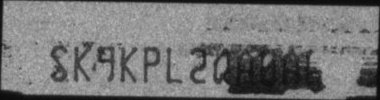0: (259, 45, 278, 85)
2: (190, 46, 207, 84)
6: (305, 47, 323, 86)
9: (97, 45, 116, 81)
A: (282, 49, 301, 86), (236, 49, 254, 87)
K: (73, 44, 92, 82), (120, 44, 138, 83)
L: (165, 46, 183, 84)
P: (143, 45, 161, 83)
Q: (213, 47, 233, 86)
S: (51, 43, 69, 83)
